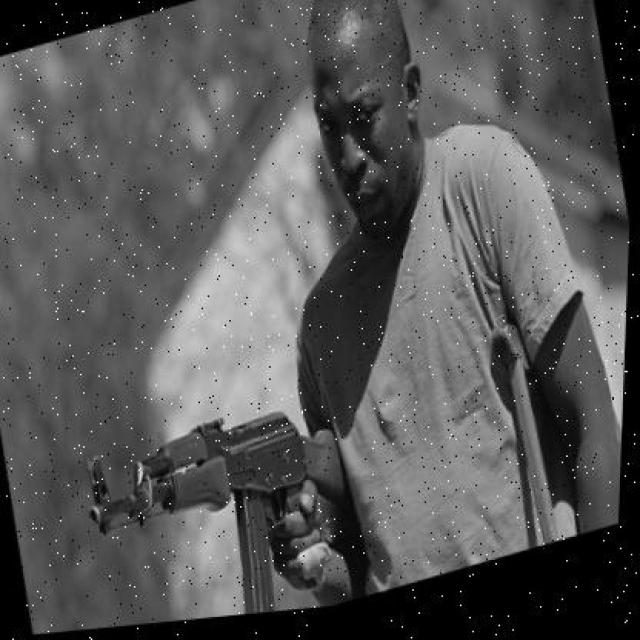weapon: (80, 405, 398, 618)
